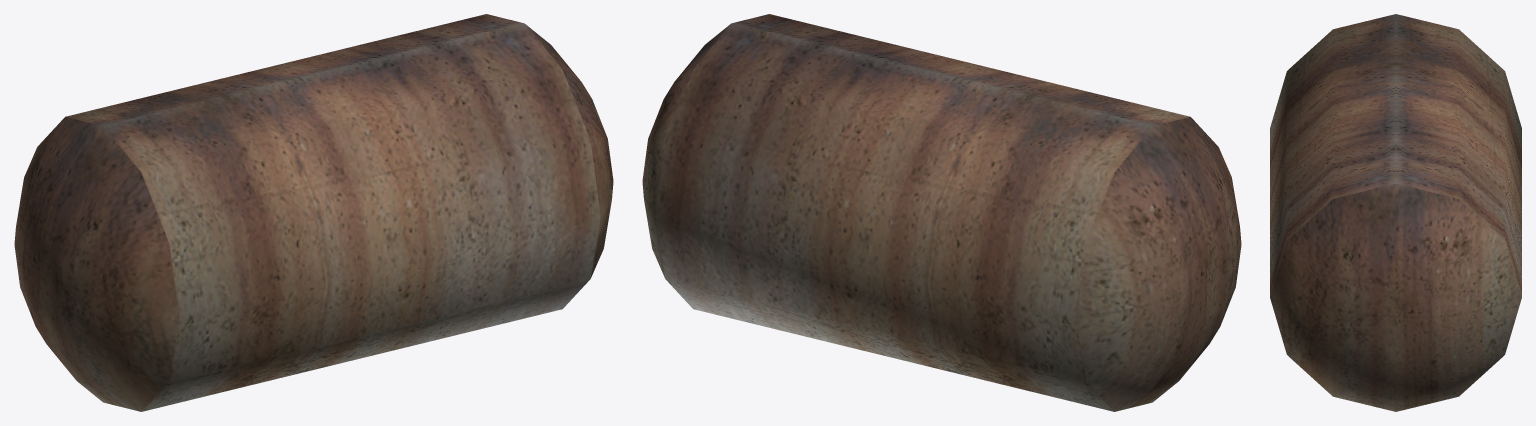
File: pipe_1.obj
The picture shows the model from 3 angles, left to right: view 1: azimuth 30°, elevation 25°; view 2: azimuth 150°, elevation 25°; view 3: azimuth 270°, elevation 25°; orthographic projection. The views are drawn at different scales.
Parts seen in each view (by area): view 1: pipe_1.obj; view 2: pipe_1.obj; view 3: pipe_1.obj.
Part boxes in pixels (x1,y1,x2,y2): pipe_1.obj: [14, 14, 613, 411]; pipe_1.obj: [642, 14, 1241, 411]; pipe_1.obj: [1270, 14, 1521, 411].
Bounding box in the file's own units: 5.53 × 2.71 × 2.71.
Materials: 1 (1 with a texture image).
